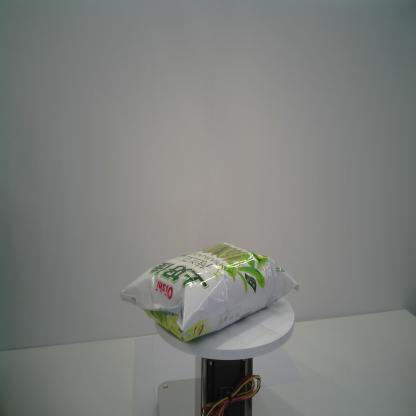Puffed Food: (118, 238, 300, 346)
